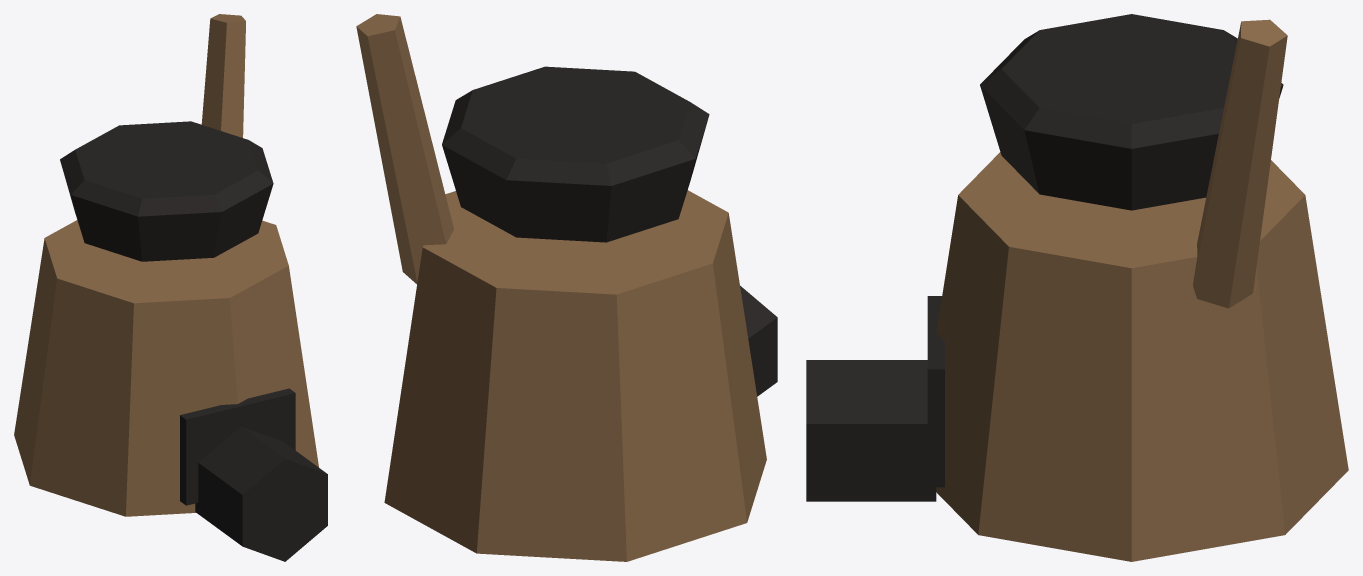
Rendered from a3s_clay_stove.glb.
3 views of the same model, side by side, from view 1: azimuth 30°, elevation 25°; view 2: azimuth 150°, elevation 25°; view 3: azimuth 270°, elevation 25° (orthographic). The views are drawn at different scales.
Visible parts, largest first — view 1: a3s_clay_stove; view 2: a3s_clay_stove; view 3: a3s_clay_stove.
Boxes of the visible parts, bbox=[...] form: a3s_clay_stove: bbox=[14, 14, 327, 561]; a3s_clay_stove: bbox=[356, 14, 777, 561]; a3s_clay_stove: bbox=[806, 14, 1348, 561].
Bounding box in the file's own units: 1 × 1.39 × 1.25.
